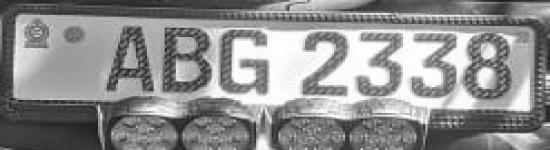2: (295, 27, 354, 99)
3: (410, 27, 461, 105), (356, 26, 409, 98)
8: (461, 28, 519, 106)
A: (106, 22, 159, 96)
B: (159, 22, 215, 98)
G: (215, 23, 279, 101)
